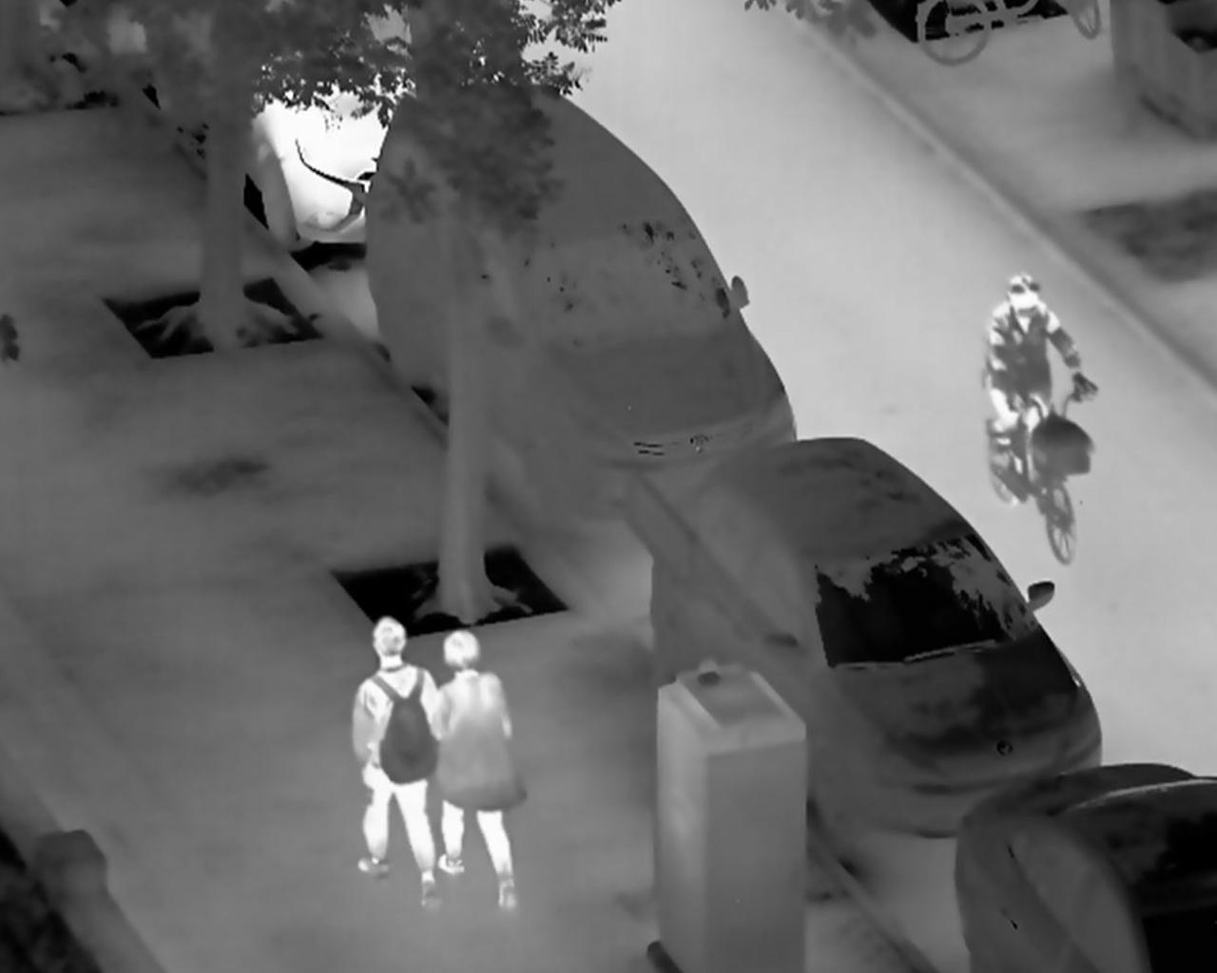person: (347, 614, 444, 906), (435, 624, 529, 914), (986, 271, 1098, 484)
